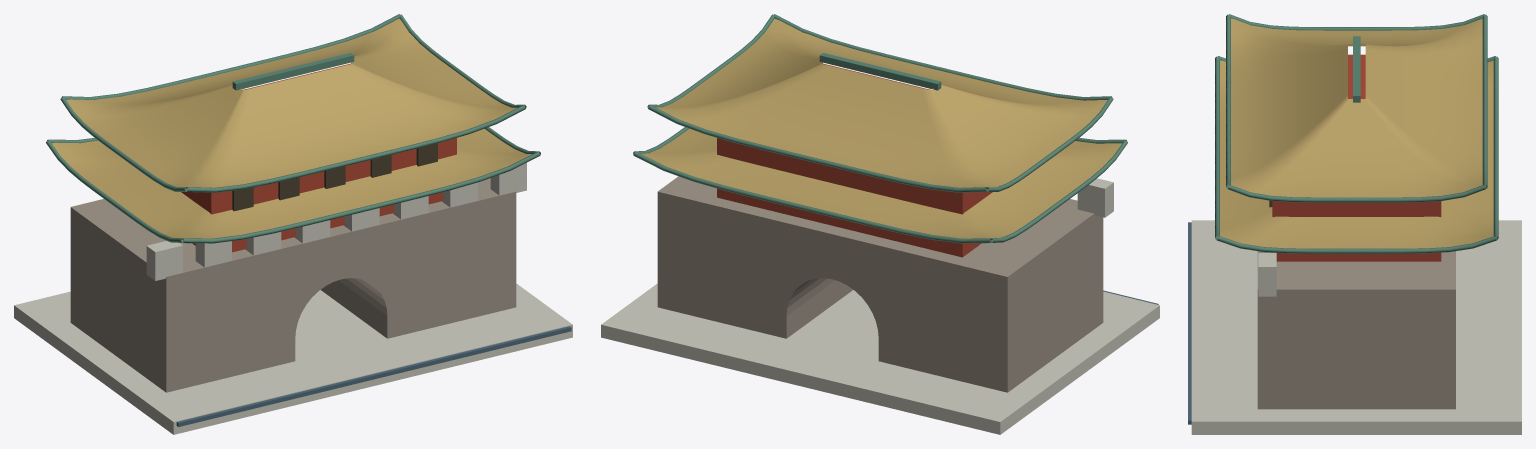
File: taierzhuang.glb
The picture shows the model from 3 angles, left to right: view 1: azimuth 30°, elevation 25°; view 2: azimuth 150°, elevation 25°; view 3: azimuth 270°, elevation 25°; orthographic projection. The views are drawn at different scales.
Visible parts, largest first — view 1: upper sweeping roof, left pier, stone plinth, right pier, lower eaves, arched stone span, red upper hall, water strip, green glazed edge.004, green glazed edge, green glazed edge.002, battlement (+11 smaller); view 2: upper sweeping roof, left pier, stone plinth, right pier, lower eaves, red upper hall, arched stone span, green glazed edge.006, green glazed edge.002, green glazed edge, roof ridge, battlement (+3 smaller); view 3: upper sweeping roof, stone plinth, right pier, lower eaves, red upper hall, green glazed edge.005, green glazed edge.001, green glazed edge.006, green glazed edge.003, green glazed edge.002, green glazed edge.004, green glazed edge (+3 smaller).
Part boxes in pixels (x1=…): upper sweeping roof: x1=66, y1=18, x2=517, y2=189; left pier: x1=70, y1=199, x2=295, y2=392; stone plinth: x1=14, y1=283, x2=572, y2=434; right pier: x1=321, y1=178, x2=516, y2=338; lower eaves: x1=52, y1=128, x2=531, y2=240; arched stone span: x1=287, y1=218, x2=387, y2=335; red upper hall: x1=181, y1=63, x2=456, y2=252; water strip: x1=176, y1=326, x2=571, y2=426; green glazed edge.004: x1=181, y1=151, x2=540, y2=243; green glazed edge: x1=185, y1=105, x2=525, y2=192; green glazed edge.002: x1=61, y1=14, x2=400, y2=99; battlement: x1=146, y1=241, x2=182, y2=280; upper sweeping roof: x1=656, y1=18, x2=1107, y2=189; left pier: x1=878, y1=199, x2=1103, y2=392; stone plinth: x1=601, y1=283, x2=1159, y2=434; right pier: x1=657, y1=176, x2=852, y2=338; lower eaves: x1=641, y1=128, x2=1121, y2=240; red upper hall: x1=717, y1=63, x2=992, y2=257; arched stone span: x1=786, y1=216, x2=886, y2=335; green glazed edge.006: x1=633, y1=151, x2=992, y2=243; green glazed edge.002: x1=648, y1=105, x2=988, y2=192; green glazed edge: x1=773, y1=14, x2=1112, y2=100; roof ridge: x1=819, y1=53, x2=941, y2=90; battlement: x1=1077, y1=178, x2=1113, y2=217; upper sweeping roof: x1=1228, y1=18, x2=1485, y2=197; stone plinth: x1=1191, y1=220, x2=1521, y2=434; right pier: x1=1257, y1=251, x2=1455, y2=409; lower eaves: x1=1217, y1=60, x2=1496, y2=248; red upper hall: x1=1272, y1=54, x2=1441, y2=261; green glazed edge.005: x1=1216, y1=236, x2=1496, y2=253; green glazed edge.001: x1=1227, y1=184, x2=1485, y2=202; green glazed edge.006: x1=1493, y1=56, x2=1498, y2=239; green glazed edge.003: x1=1229, y1=14, x2=1484, y2=30; green glazed edge.002: x1=1482, y1=14, x2=1487, y2=188; green glazed edge.004: x1=1215, y1=56, x2=1219, y2=239; green glazed edge: x1=1226, y1=14, x2=1230, y2=188.
Size of the model in its own units: 6.5 by 4.03 by 4.55.
